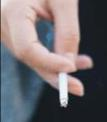Cigarette: (58, 56, 68, 108)
